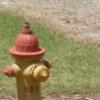a fire hydrant: (5, 20, 52, 100)
